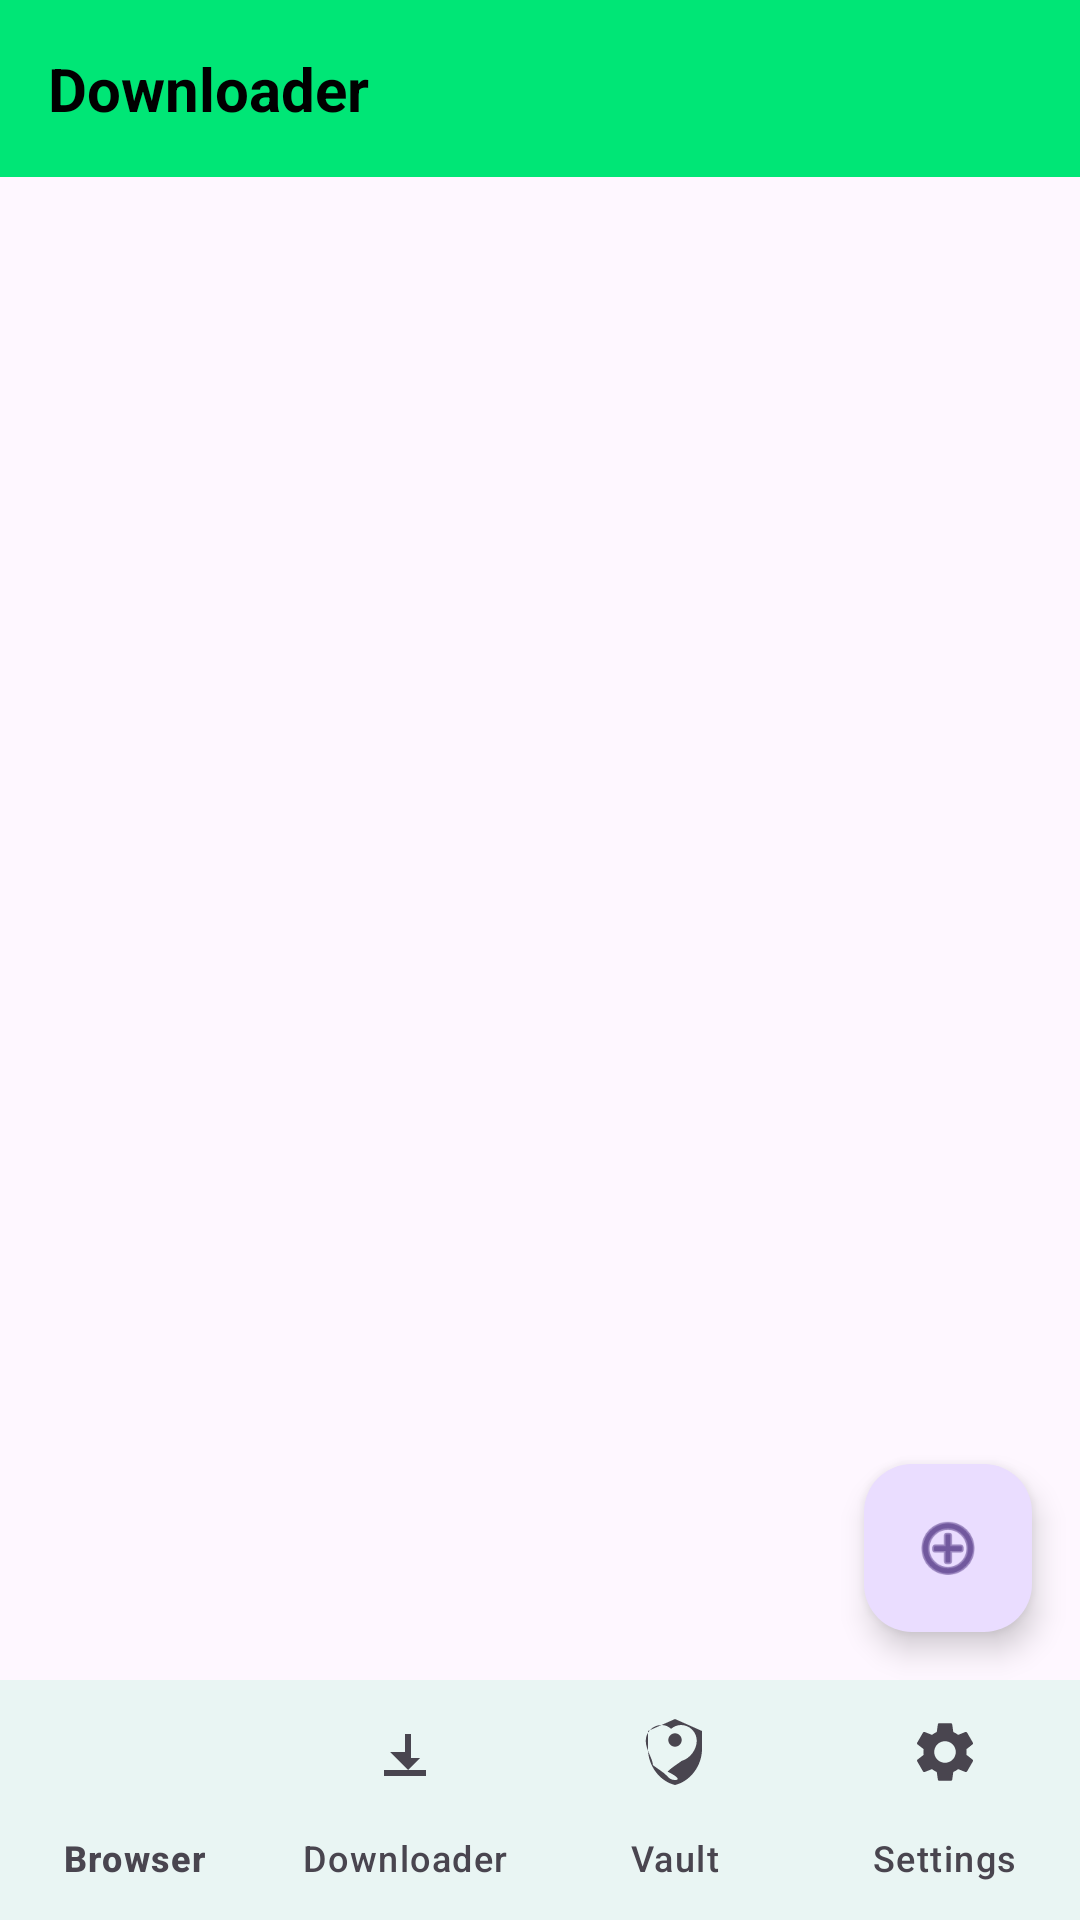

Icons on this 1080px×1920px Android screen, each with the point to tap as (x=x, y=y):
Add URL: (x=948, y=1548)
